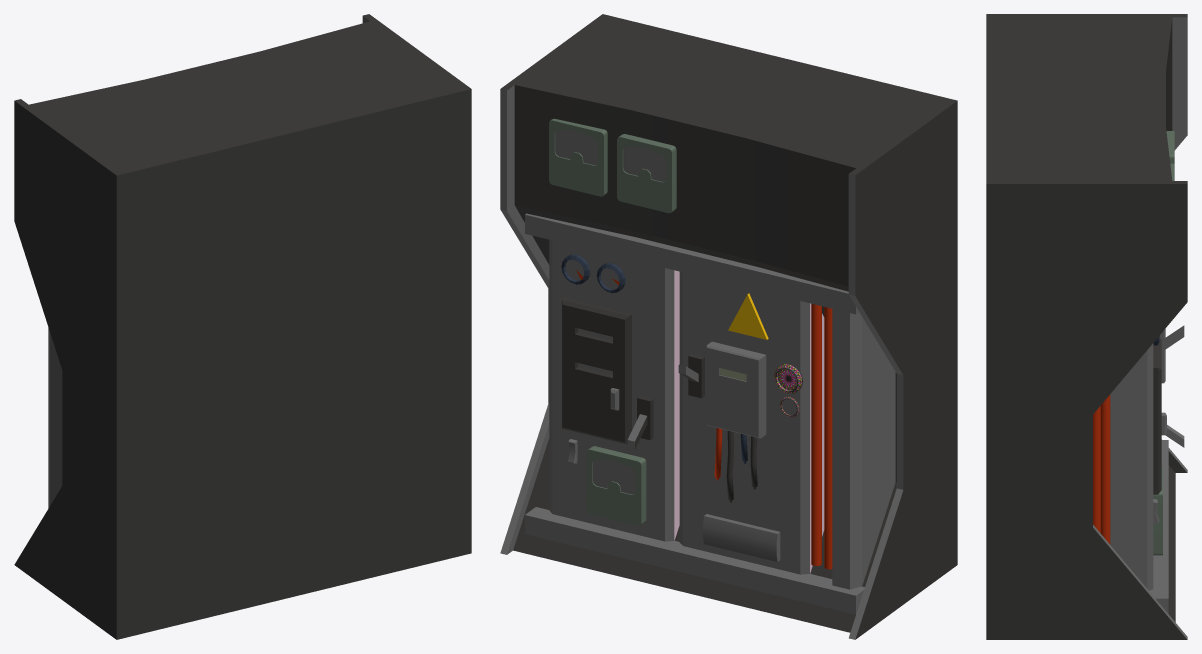
File: Circuit_RepairStation.glb
3 views of the same model, side by side, from view 1: azimuth 30°, elevation 25°; view 2: azimuth 150°, elevation 25°; view 3: azimuth 270°, elevation 25° (orthographic).
Visible parts, largest first — view 1: pCube19; view 2: pCube19; view 3: pCube19.
Part boxes in pixels (x1,y1,x2,y2): pCube19: [14, 14, 471, 639]; pCube19: [500, 14, 957, 639]; pCube19: [986, 14, 1187, 639].
Bounding box in the file's own units: 4 × 5 × 2.
Materials: 1 (1 with a texture image).
